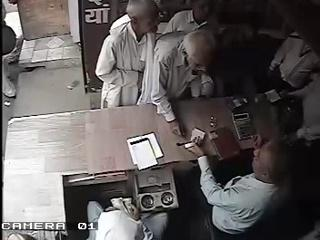Normal: (182, 136, 294, 240), (144, 29, 224, 137)
shoplifting: (95, 0, 162, 109)
